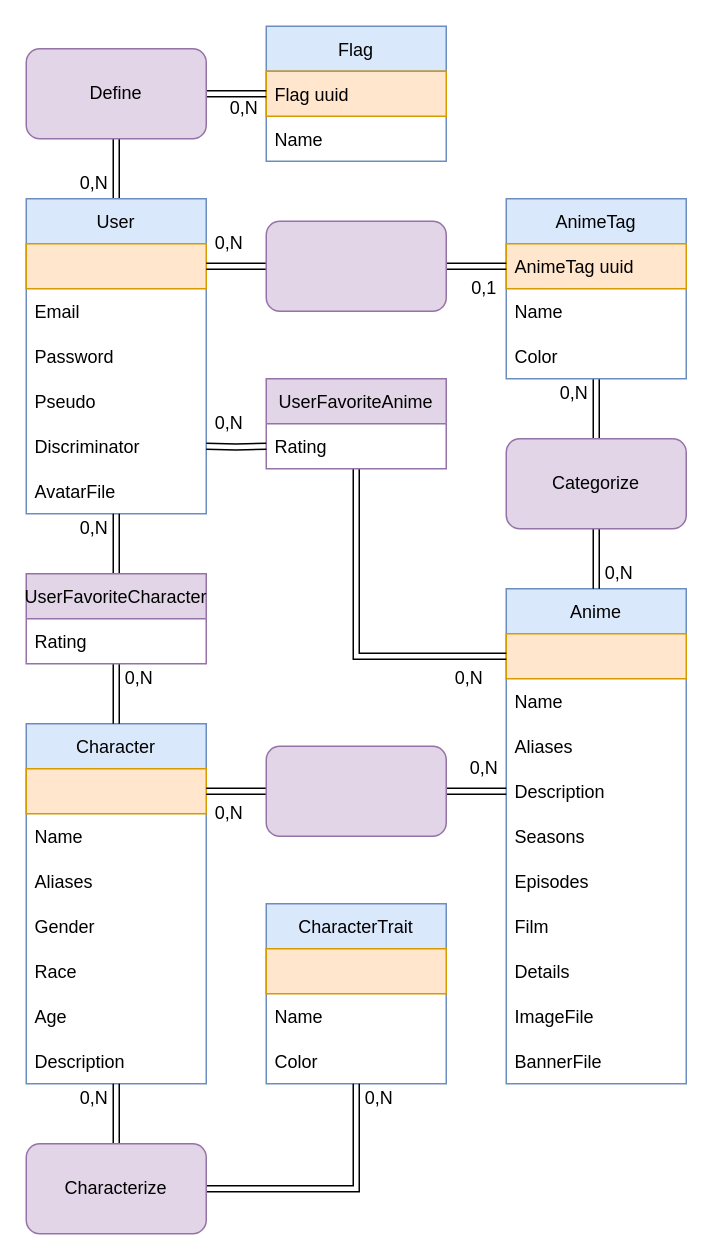
Image size: 714x1260. Some labels were removed from this diagram. Each missing label, with the centre of its shape:
"Anime uuid" goes at point 595,655.
"Character uuid" goes at point 115,790.
"CharacterTrait uuid" goes at point 355,970.
"Create" goes at point 355,265.
"Has" goes at point 355,790.
"User uuid" goes at point 115,265.
